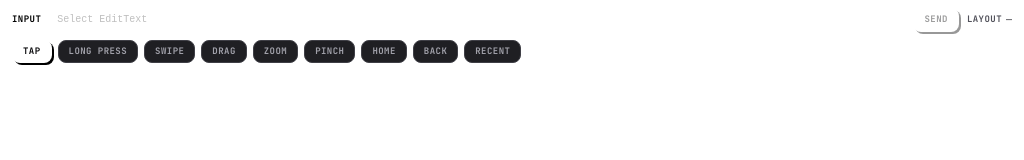
DeviceActionsBar › shows the fallback error message when a device action rejects
The width and height of the screenshot is (1024, 160).
Click the button "Tap": (32, 51) [12,40,52,63]
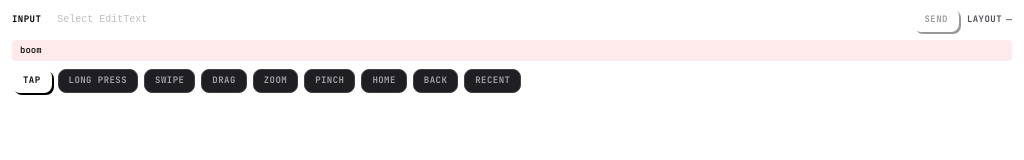
Now the text "boom" is shown, box [12,40,1012,61]
